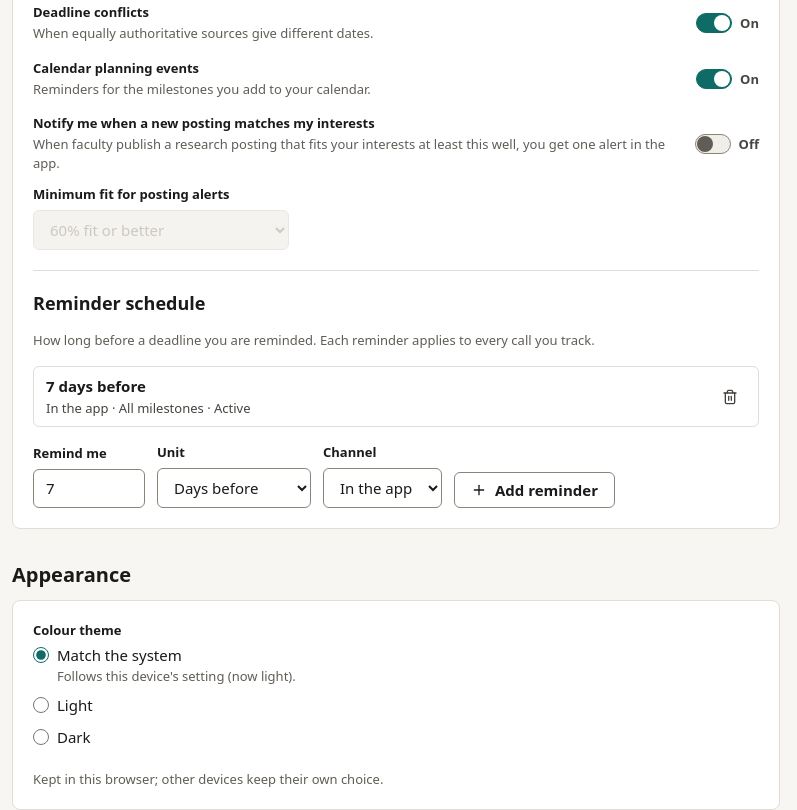
reminder schedule › checks the amount first, then adds the reminder in words
(page scrolled)
Expected: the text "7 days before" is shown, 46,376 -> 146,396
Replace the text in the number field labelled "Remind me" with "0" at (89, 489), box 33,469 -> 145,508
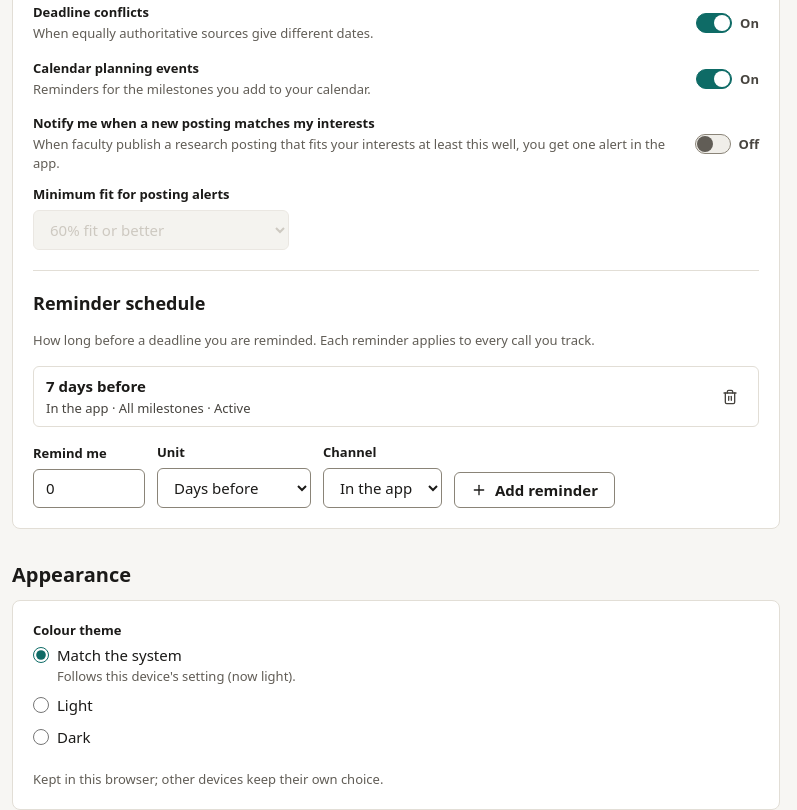
Click the button "Add reminder" at (534, 490), box 454,472 -> 615,508
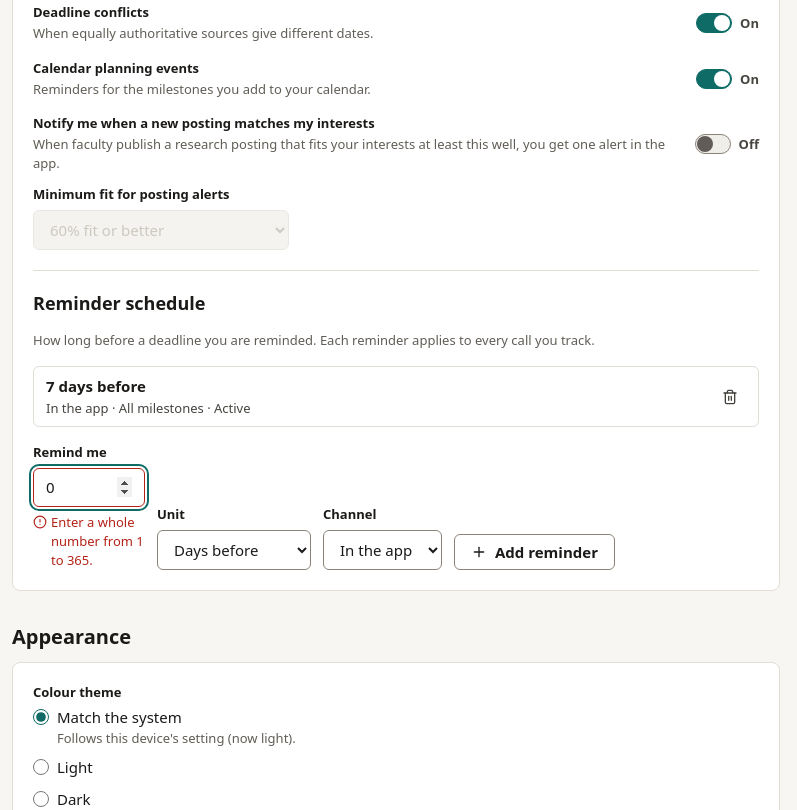
Now the text "Enter a whole number from 1 to 365." is shown, box 51,513 -> 145,570
Replace the text in the number field labelled "Remind me" with "2" at (89, 488), box 33,468 -> 145,507
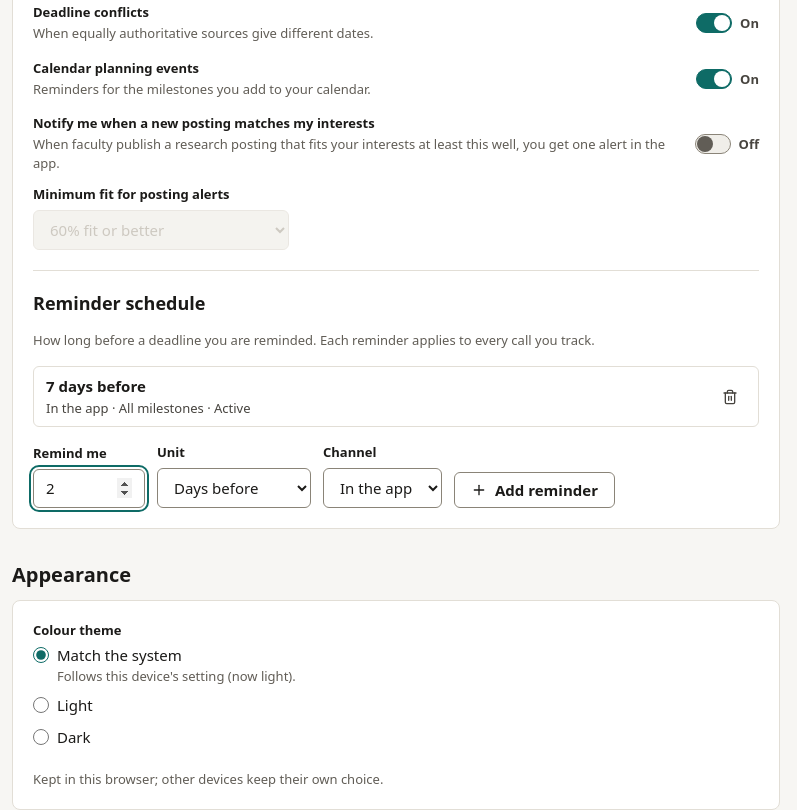
Select "Hours before" in the dropdown labelled "Unit" at (234, 488), box 157,468 -> 311,508
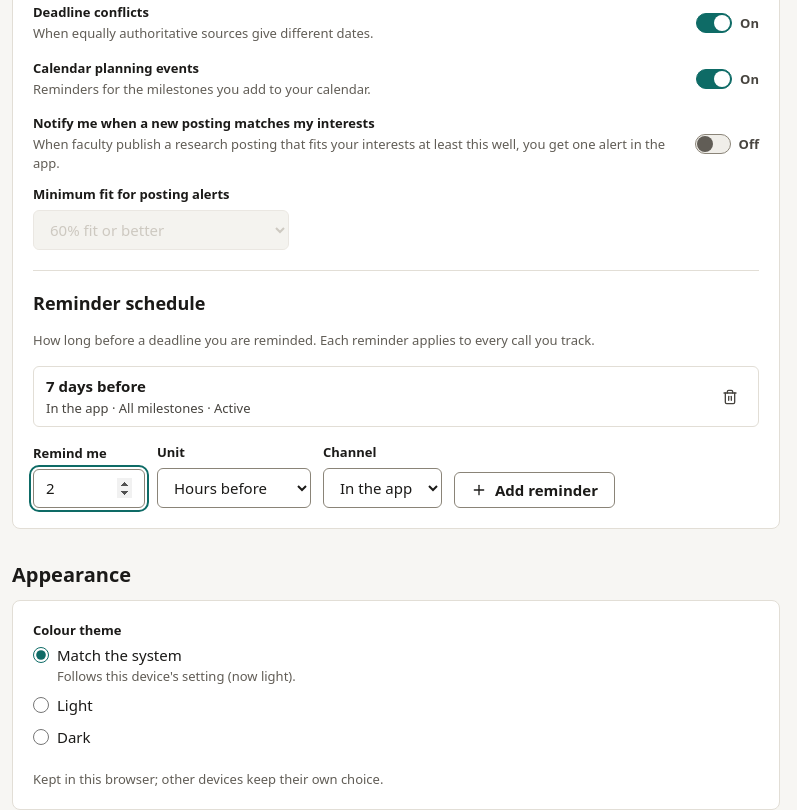
Select "By email" in the dropdown labelled "Channel" at (382, 488), box 323,468 -> 442,508
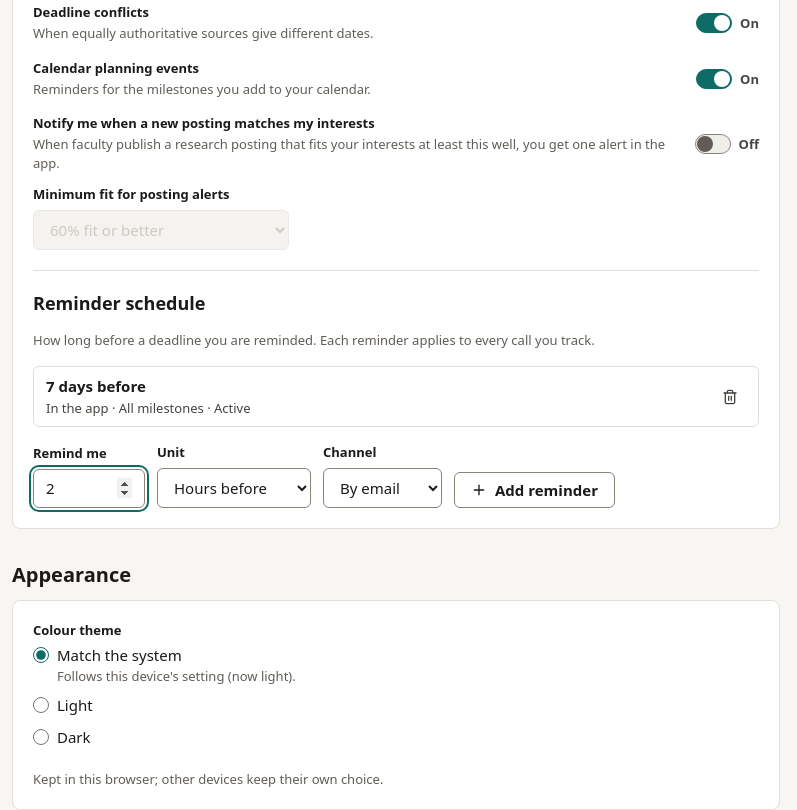
Click the button "Add reminder" at (534, 490), box 454,472 -> 615,508
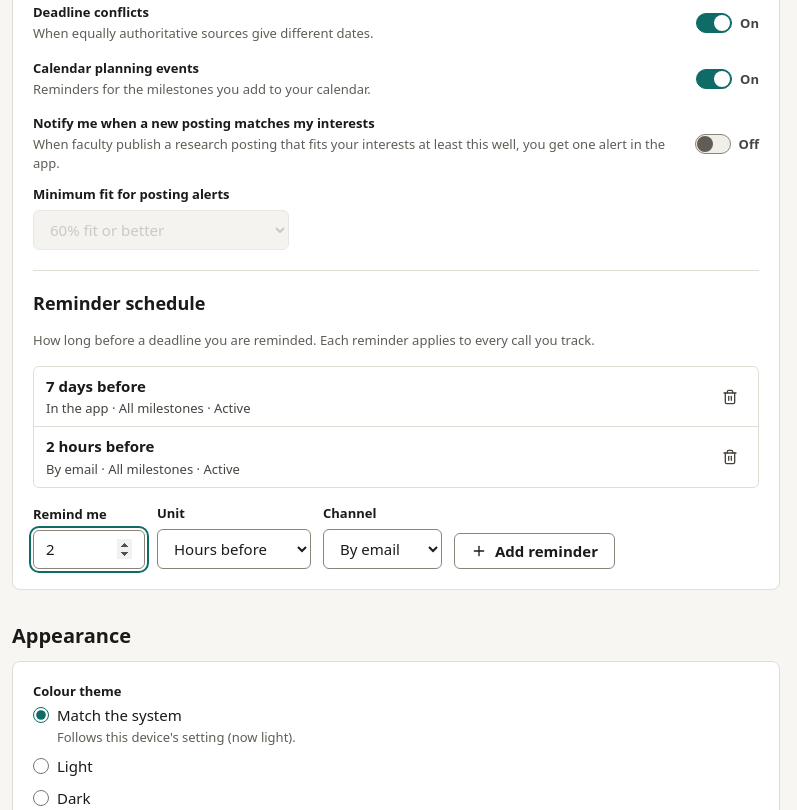
Now the text "2 hours before" is shown, box 46,436 -> 154,456
Now the text "By email · All milestones · Active" is shown, box 46,460 -> 240,478
